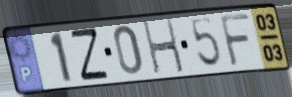0: (112, 23, 146, 78)
1: (49, 29, 74, 84)
5: (187, 15, 224, 70)
F: (217, 12, 253, 69)
H: (140, 17, 187, 77)
Z: (68, 25, 111, 83)
